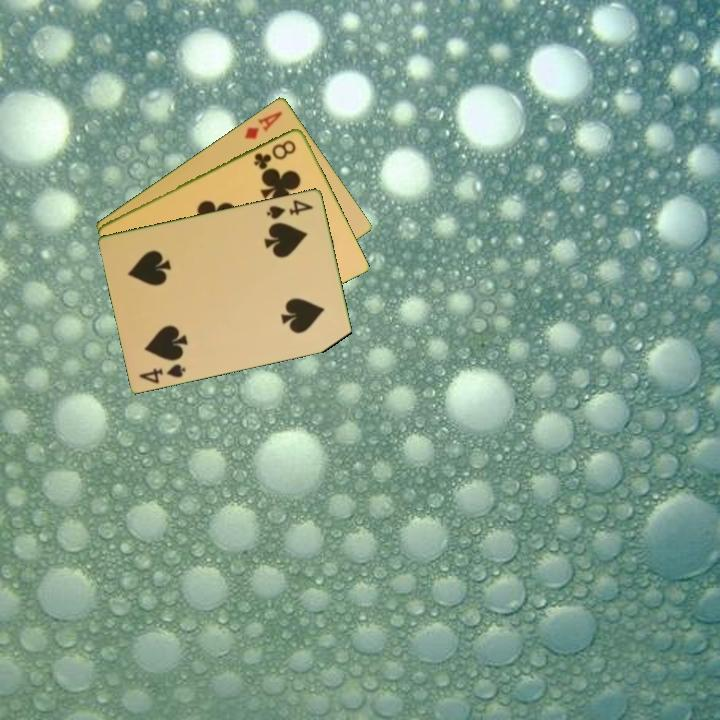4s: (135, 360, 189, 386), (263, 196, 316, 222)
8c: (250, 136, 299, 172)
Ad: (241, 107, 285, 142)
